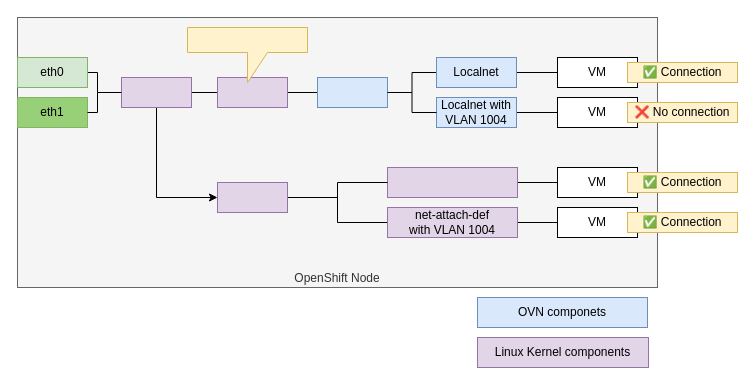
The diagram is 755 pixels wide and 385 high, and some of its shapes have lost their labels. The box of each missing label's shape, as (x1, y1, x2, y2) in pixels:
bond0: (120, 76, 192, 108)
bond0.32: (216, 76, 288, 108)
br-ex: (316, 76, 388, 108)
Linux bridge: (216, 182, 288, 212)
net-attach-def: (386, 166, 518, 198)
VLAN Tagging: (186, 26, 308, 82)
